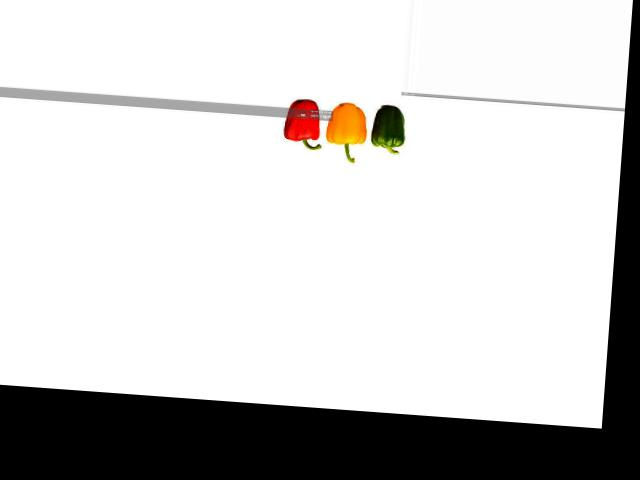bell_pepper: (371, 101, 411, 161)
